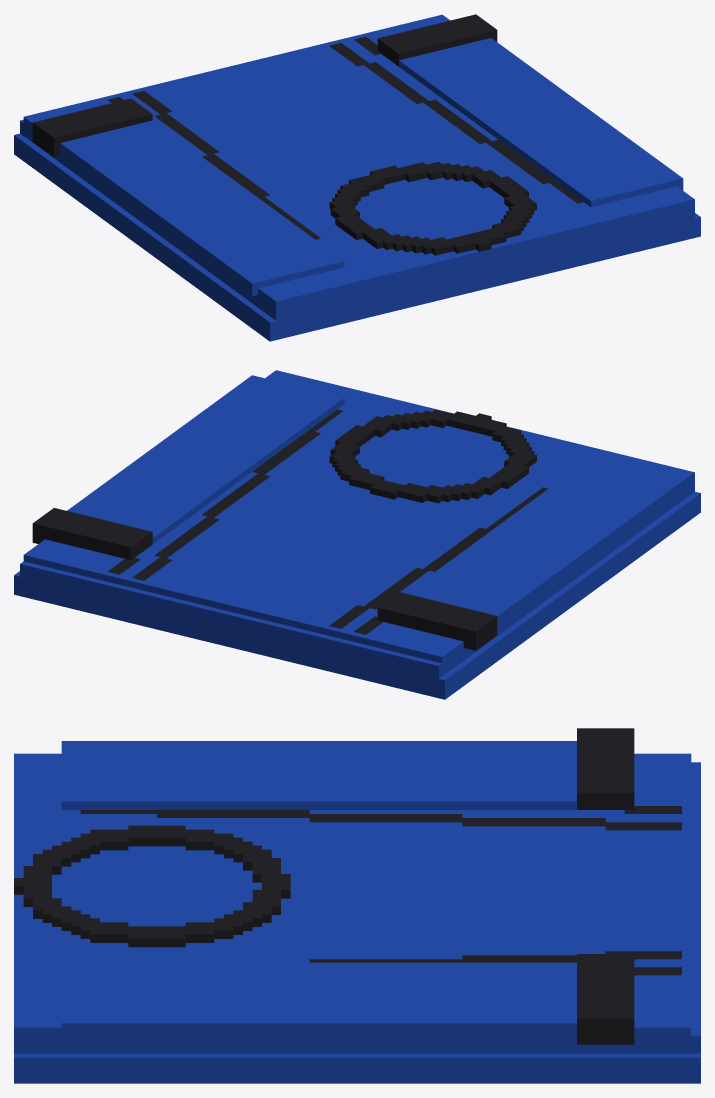
File: compression_top.glb
The picture shows the model from 3 angles, top to bottom: view 1: azimuth 30°, elevation 25°; view 2: azimuth 150°, elevation 25°; view 3: azimuth 270°, elevation 25°; orthographic projection. The views are drawn at different scales.
Visible parts, largest first — view 1: compression_top:compound; view 2: compression_top:compound; view 3: compression_top:compound.
Boxes of the visible parts, x1,y1,x2,y2 form: compression_top:compound: (14,14,700,341); compression_top:compound: (14,370,700,699); compression_top:compound: (14,728,700,1083).
Size of the model in its own units: 0.288 by 0.032 by 0.288.
